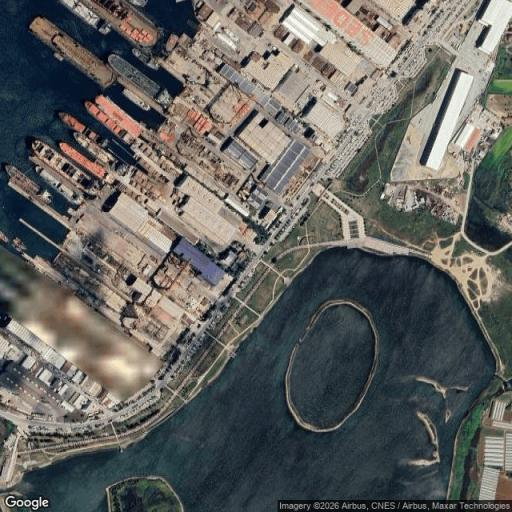ship: (30, 17, 115, 87), (31, 139, 106, 195), (82, 0, 158, 47), (108, 54, 171, 107), (84, 101, 136, 145), (5, 165, 55, 204), (36, 166, 83, 205), (60, 0, 111, 34), (59, 142, 105, 179), (74, 132, 116, 167), (58, 112, 101, 143), (122, 88, 150, 111), (132, 48, 159, 70), (12, 237, 27, 253), (128, 0, 147, 7), (0, 231, 9, 243)
